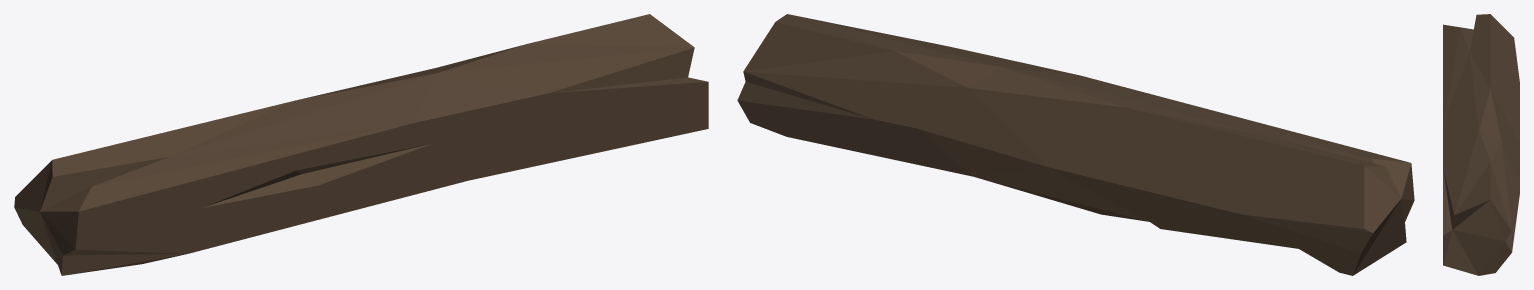
The model's file is Wood_Cylinder_Light.fbx.
The picture shows the model from 3 angles, left to right: view 1: azimuth 30°, elevation 25°; view 2: azimuth 150°, elevation 25°; view 3: azimuth 270°, elevation 25°; orthographic projection. The views are drawn at different scales.
Visible parts, largest first — view 1: Wood_Cylinder_Light; view 2: Wood_Cylinder_Light; view 3: Wood_Cylinder_Light.
Boxes of the visible parts, box(x1,y1,x2,y2) form: Wood_Cylinder_Light: box(14, 14, 708, 275); Wood_Cylinder_Light: box(737, 14, 1414, 275); Wood_Cylinder_Light: box(1443, 14, 1519, 275).
Size of the model in its own units: 1117 by 193 by 181.
